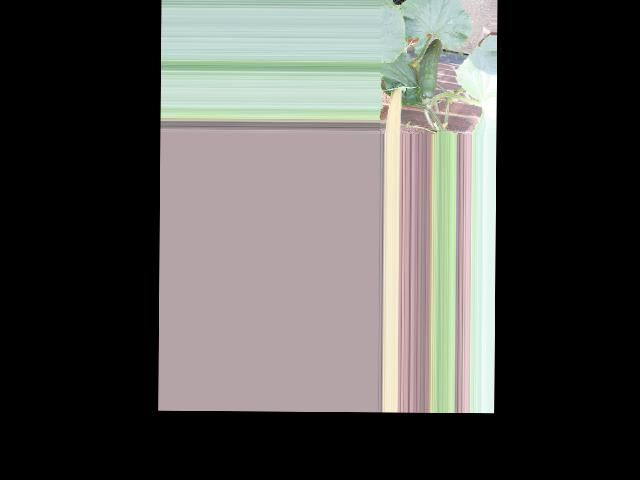cucumber: (418, 38, 442, 99)
